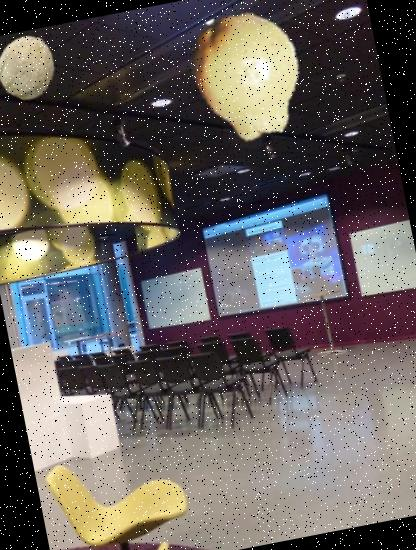Cantaloupe: (0, 29, 64, 104)
Quince: (172, 0, 327, 152)
